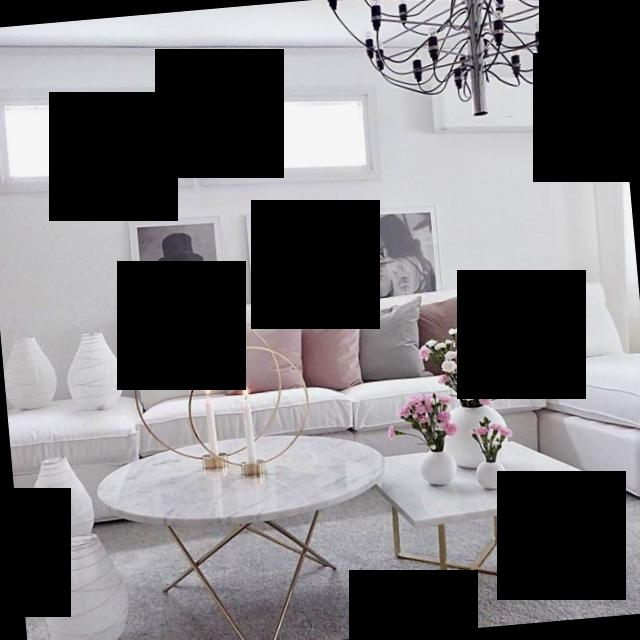white desk: (99, 415, 407, 640), (408, 422, 634, 605)
